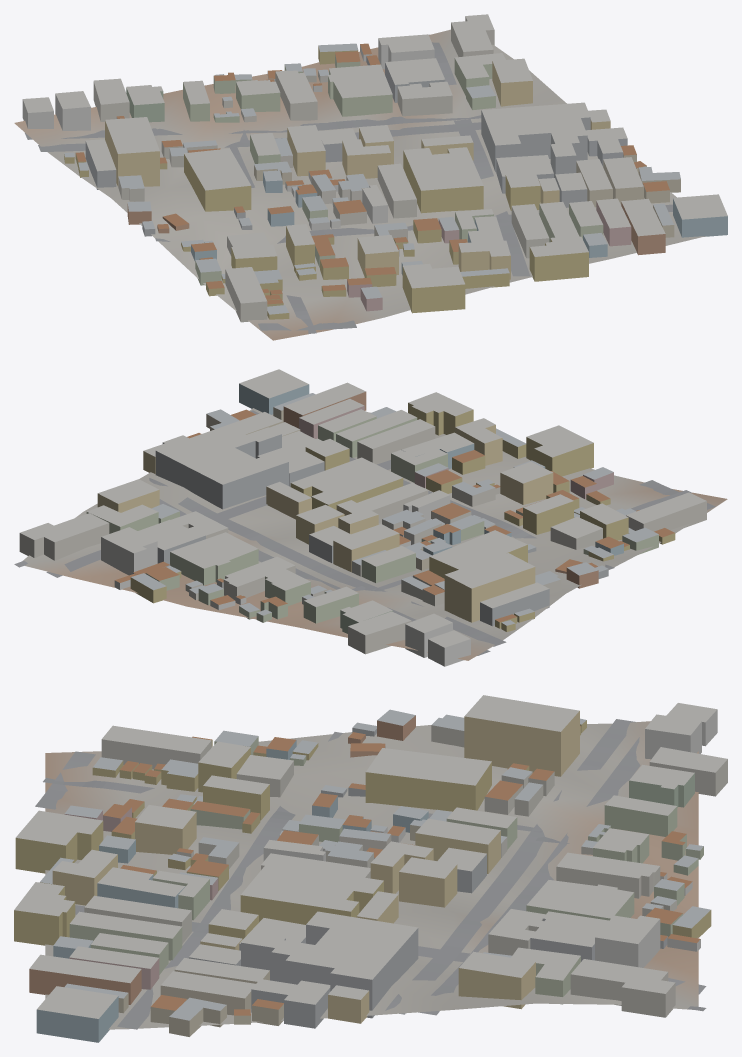
The picture shows the model from 3 angles, top to bottom: view 1: azimuth 30°, elevation 25°; view 2: azimuth 150°, elevation 25°; view 3: azimuth 270°, elevation 25°; orthographic projection. The views are drawn at different scales.
Parts seen in each view (by area): view 1: Lo; view 2: Lo; view 3: Lo.
Part boxes in pixels (x1,y1,x2,y2): Lo: (14, 14, 727, 340); Lo: (14, 369, 727, 666); Lo: (14, 695, 727, 1042).
Bounding box in the file's own units: 271 × 32.21 × 280.
